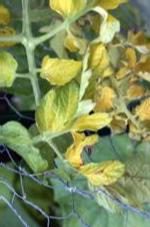Tomato leaf yellow virus: (58, 143, 150, 227), (0, 118, 50, 189), (33, 70, 80, 139), (47, 0, 87, 25)
